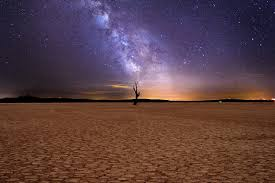ground: (3, 102, 275, 182)
sky: (2, 1, 275, 101)
tree: (130, 80, 143, 107)
